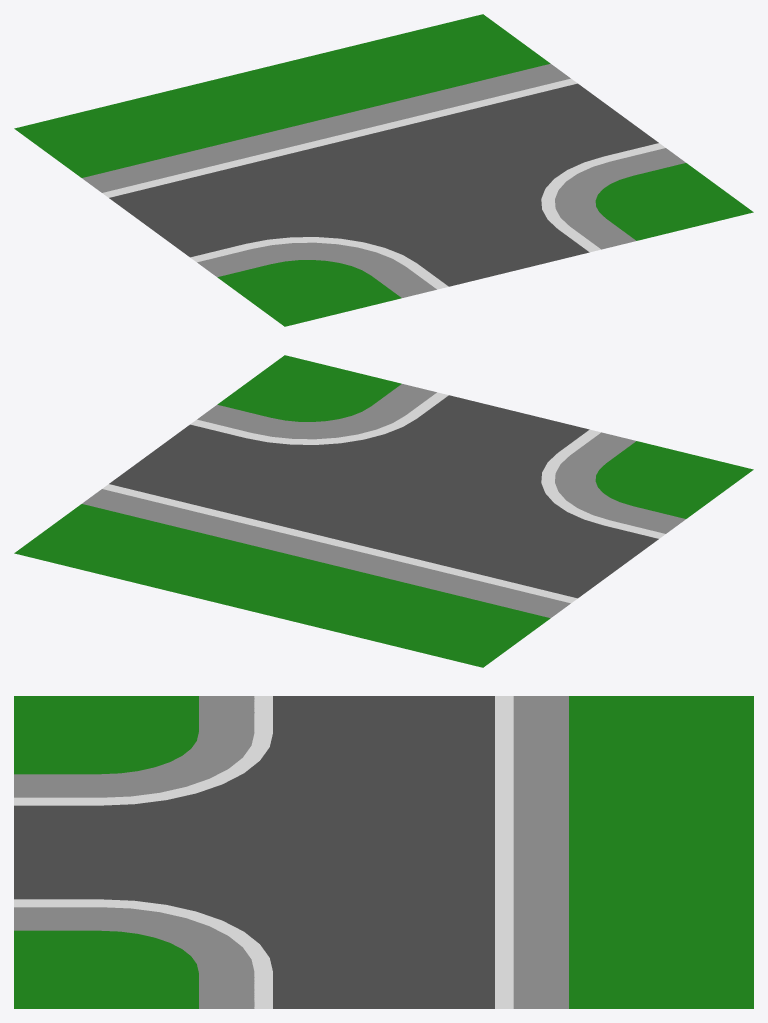
The model's file is Road-T.fbx.
3 views of the same model, one above another, from view 1: azimuth 30°, elevation 25°; view 2: azimuth 150°, elevation 25°; view 3: azimuth 270°, elevation 25° (orthographic). The views are drawn at different scales.
Visible parts, largest first — view 1: Road-T, Road-T_terrain, Road-T_Sidewalk, Road-T_Whitelines; view 2: Road-T, Road-T_terrain, Road-T_Sidewalk, Road-T_Whitelines; view 3: Road-T, Road-T_terrain, Road-T_Sidewalk, Road-T_Whitelines.
Part boxes in pixels (x1,y1,x2,y2): Road-T: (109, 83, 658, 286); Road-T_terrain: (14, 14, 753, 326); Road-T_Sidewalk: (82, 63, 685, 297); Road-T_Whitelines: (102, 78, 665, 289); Road-T: (109, 395, 658, 598); Road-T_terrain: (14, 355, 753, 667); Road-T_Sidewalk: (82, 384, 685, 618); Road-T_Whitelines: (102, 392, 665, 603); Road-T: (14, 696, 494, 1008); Road-T_terrain: (14, 696, 753, 1008); Road-T_Sidewalk: (14, 696, 568, 1008); Road-T_Whitelines: (14, 696, 513, 1008).
Bounding box in the file's own units: 20 × 0 × 20.
